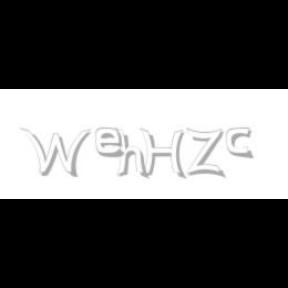H: (140, 128, 186, 180)
W: (19, 128, 91, 178)
Z: (186, 128, 224, 178)
c: (226, 128, 254, 160)
e: (96, 128, 128, 158)
h: (116, 128, 150, 180)
